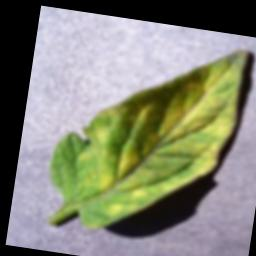Leaf_Mold: (42, 24, 249, 249)
